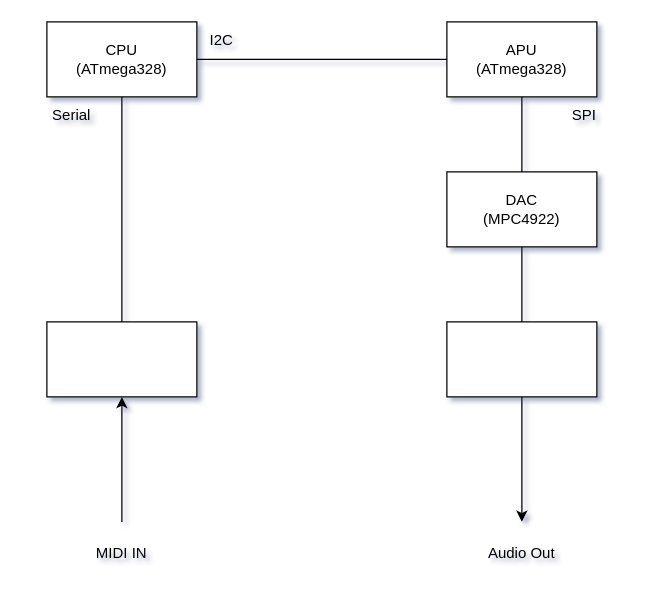
Some shapes in this 663 by 601 pixel diagram are drawn without their labels. Here are the shapes that lost their labels. From the top down, the centre of each, then its label:
At point (121, 359): "MIDI CONN".
At point (521, 359): "Amp".
